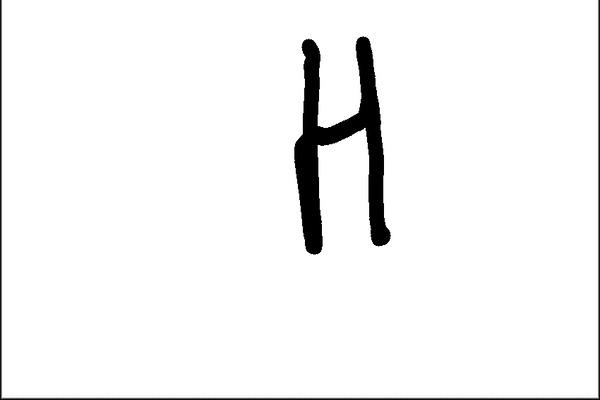H: (283, 23, 402, 256)
